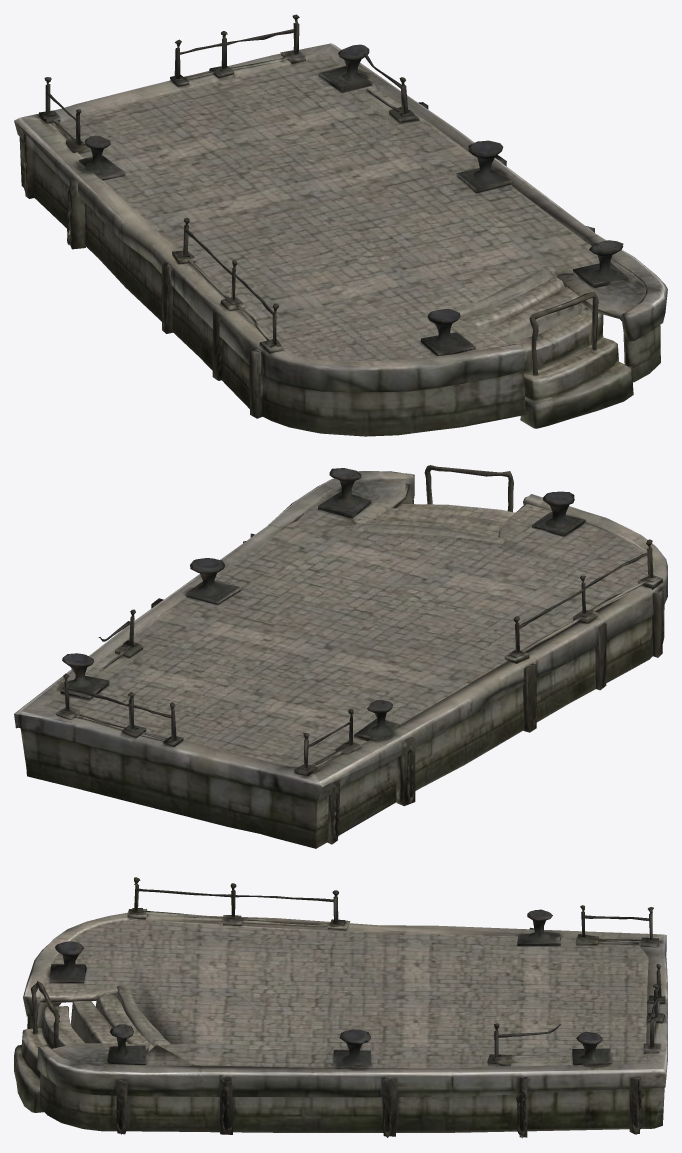
File: city_istanbul_stone_dock.glb
3 views of the same model, one above another, from view 1: azimuth 30°, elevation 25°; view 2: azimuth 150°, elevation 25°; view 3: azimuth 270°, elevation 25° (orthographic). The views are drawn at different scales.
Visible parts, largest first — view 1: mesh_node; view 2: mesh_node; view 3: mesh_node.
Part boxes in pixels (x1=…): mesh_node: x1=14, y1=14, x2=667, y2=436; mesh_node: x1=14, y1=465, x2=667, y2=848; mesh_node: x1=14, y1=877, x2=667, y2=1138.
Size of the model in its own units: 3.34 by 1 by 5.49.
1 material, 1 textured.
